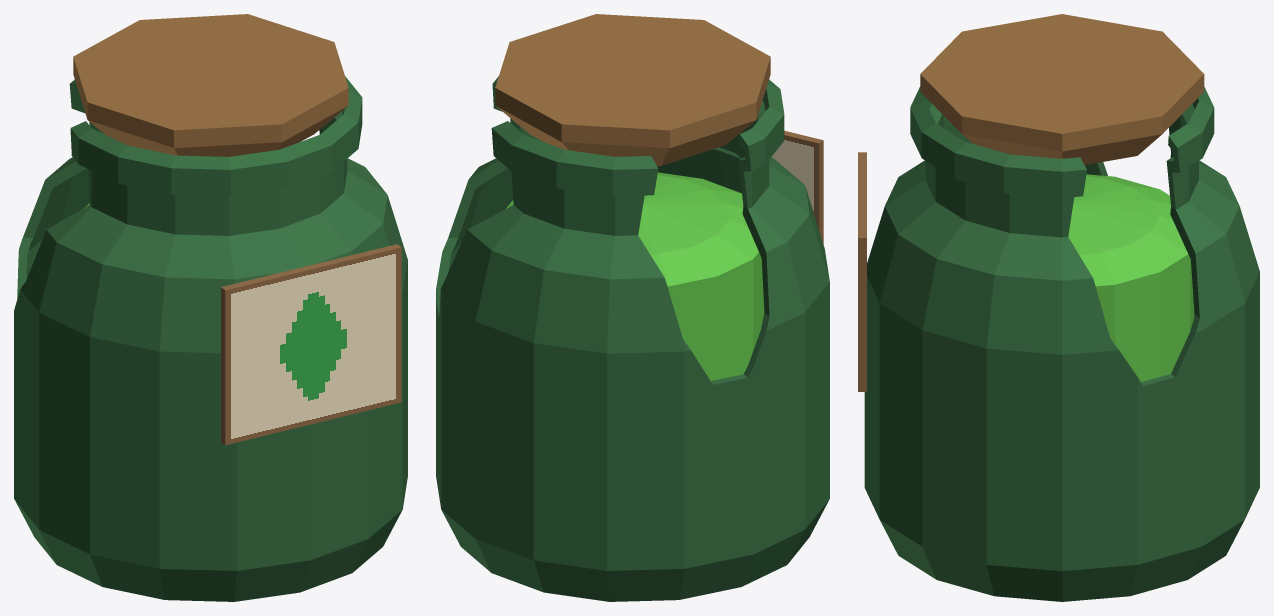
The model's file is echo_herbs.obj.
3 renders of one model, left to right at view 1: azimuth 30°, elevation 25°; view 2: azimuth 150°, elevation 25°; view 3: azimuth 270°, elevation 25°, orthographic.
Parts seen in each view (by area): view 1: A_Flask.001_echo_herbs_glass, S_Cork.001_echo_herbs_cork, C_Label.001_echo_herbs_label; view 2: A_Flask.001_echo_herbs_glass, S_Cork.001_echo_herbs_cork, A_Liquid.001_echo_herbs_liquid, C_Label.001_echo_herbs_label; view 3: A_Flask.001_echo_herbs_glass, S_Cork.001_echo_herbs_cork, A_Liquid.001_echo_herbs_liquid, C_Label.001_echo_herbs_label.
Boxes of the visible parts, x1,y1,x2,y2 form: A_Flask.001_echo_herbs_glass: (14,76,407,601); S_Cork.001_echo_herbs_cork: (73,14,348,156); C_Label.001_echo_herbs_label: (221,244,401,445); A_Flask.001_echo_herbs_glass: (436,76,829,601); S_Cork.001_echo_herbs_cork: (495,14,770,166); A_Liquid.001_echo_herbs_liquid: (506,172,764,380); C_Label.001_echo_herbs_label: (771,130,823,244); A_Flask.001_echo_herbs_glass: (864,86,1259,601); S_Cork.001_echo_herbs_cork: (920,14,1204,164); A_Liquid.001_echo_herbs_liquid: (1068,174,1194,382); C_Label.001_echo_herbs_label: (858,152,866,391).
Size of the model in its own units: 1.09 by 1.37 by 1.11.
4 materials, 1 textured.
